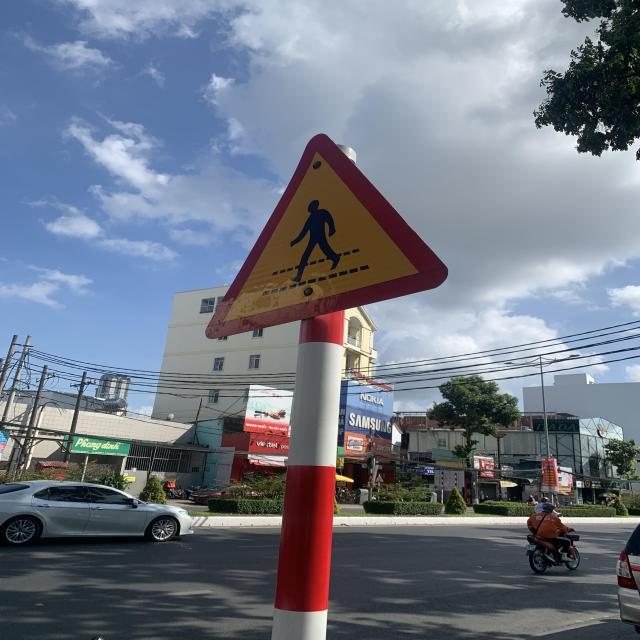Duong_Nguoi_Di_Bo_Sang_Ngang: (206, 131, 452, 342)
